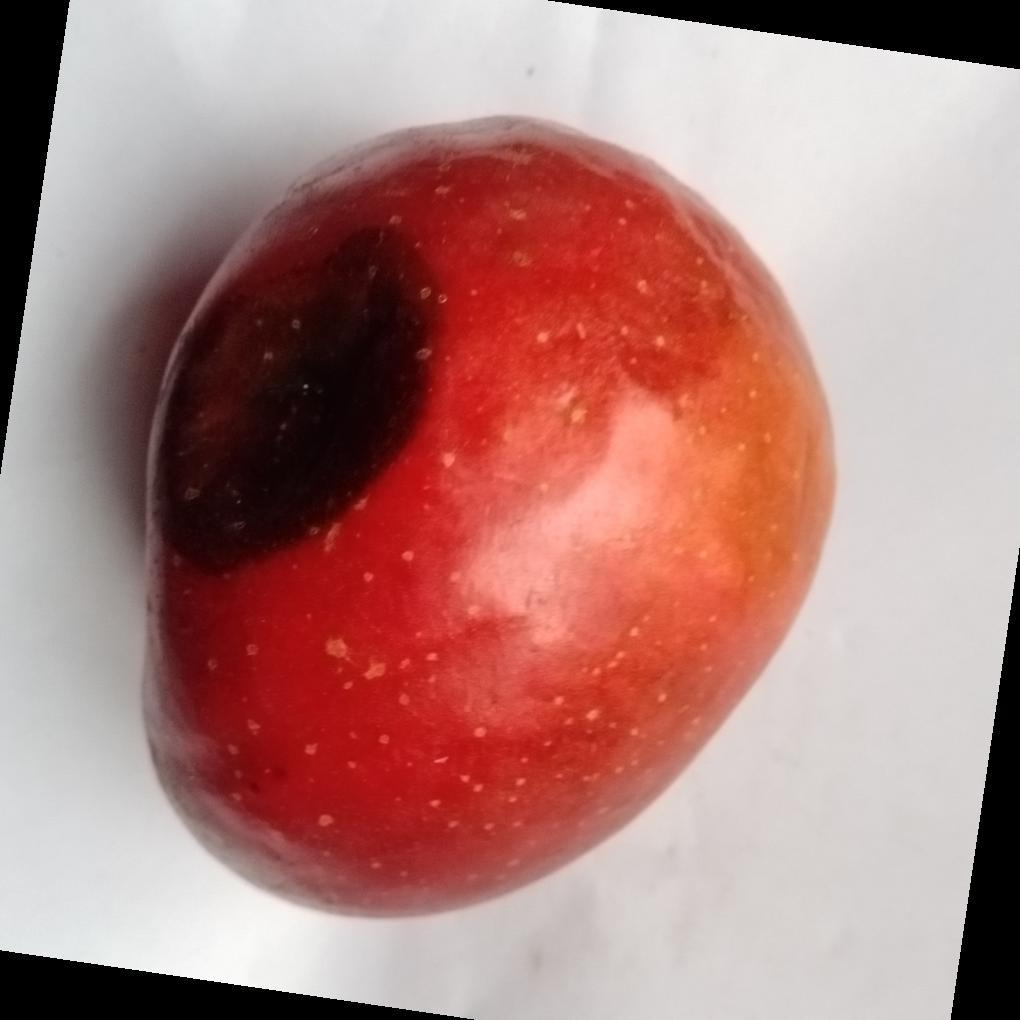FreshOrange: (138, 115, 839, 925)
